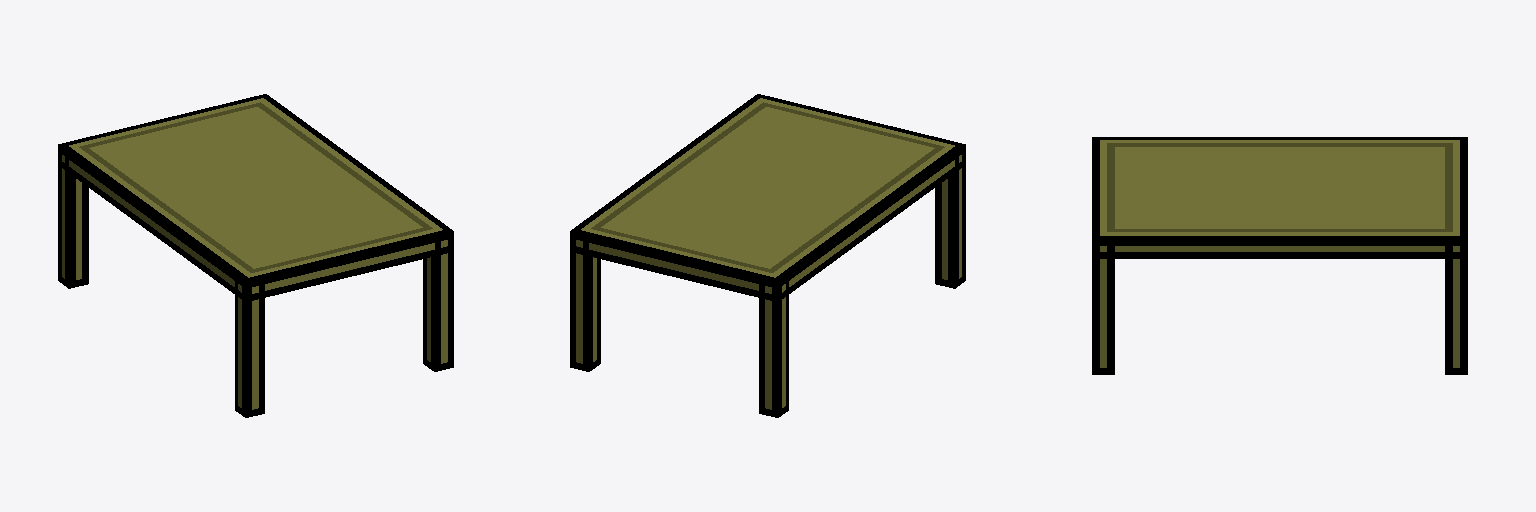
3 renders of one model, left to right at view 1: azimuth 30°, elevation 25°; view 2: azimuth 150°, elevation 25°; view 3: azimuth 270°, elevation 25°, orthographic.
Visible parts, largest first — view 1: object 1; view 2: object 1; view 3: object 1.
Part boxes in pixels (x1,y1,x2,y2): object 1: (58,94,453,417); object 1: (570,94,965,417); object 1: (1092,137,1467,374).
Size of the model in its own units: 3.2 by 2 by 5.
1 materials, 1 textured.